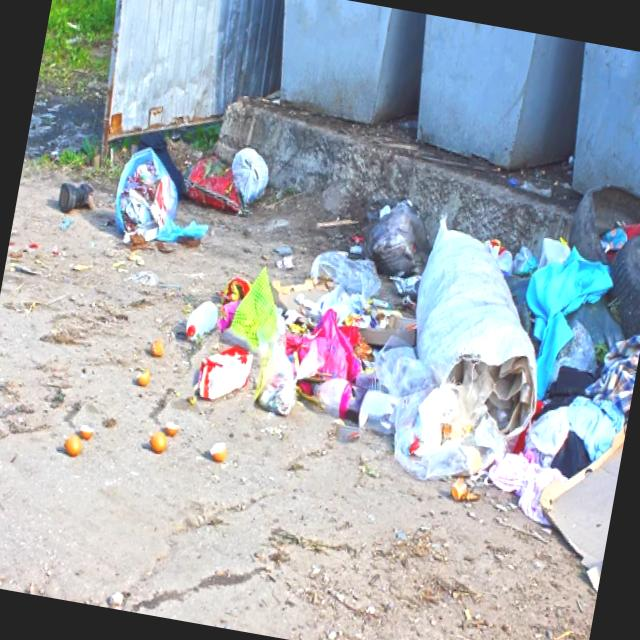garbage: (76, 119, 640, 580)
